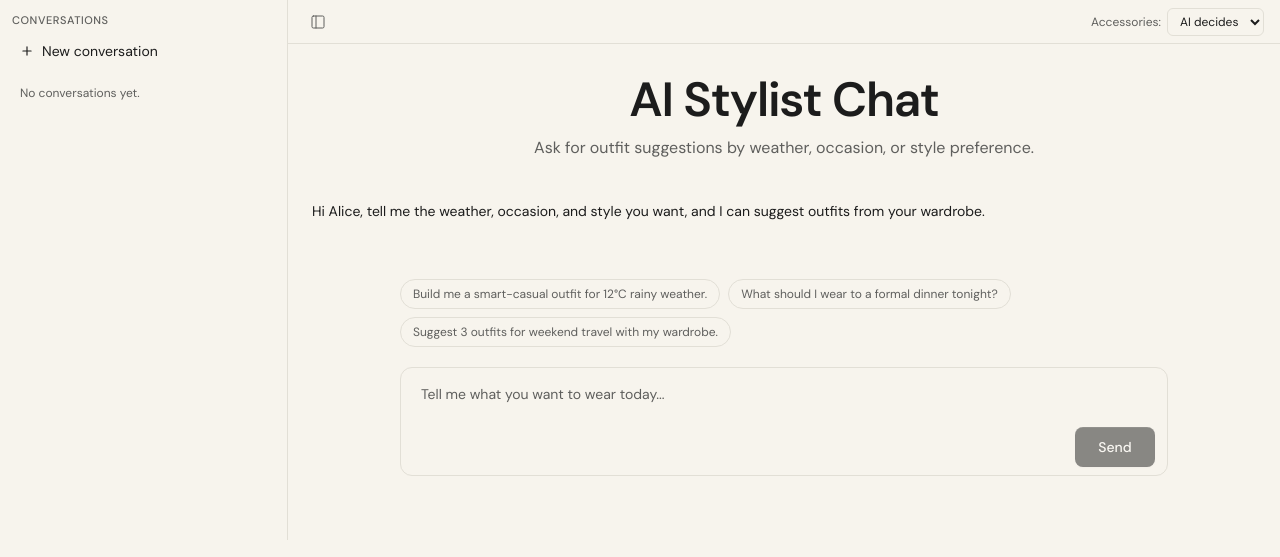
Test: ChatPage › quick prompts › hides quick prompts once a message is sent
This screenshot has width=1280, height=557.
Step 1. Type "what should I wear" into the text box with placeholder "Tell me what you want to wear today..." → (784, 398), box 409,376 -> 1159,420
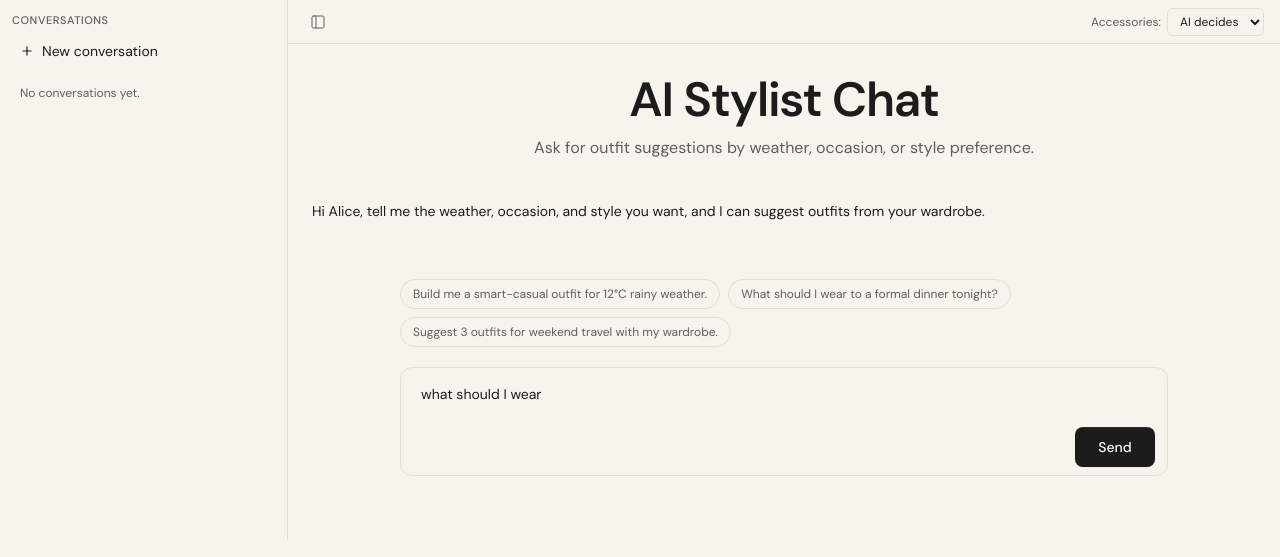
Step 2. Click the button "Send" → click(1115, 447), box 1075,427 -> 1155,467
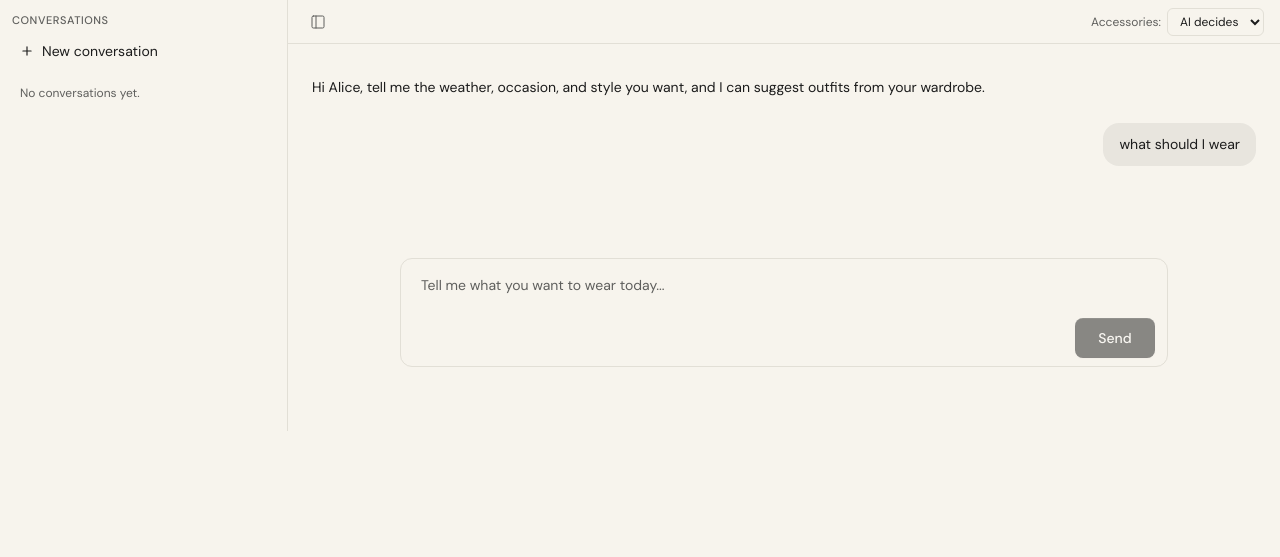
Expected: the button "smart-casual outfit" is gone
